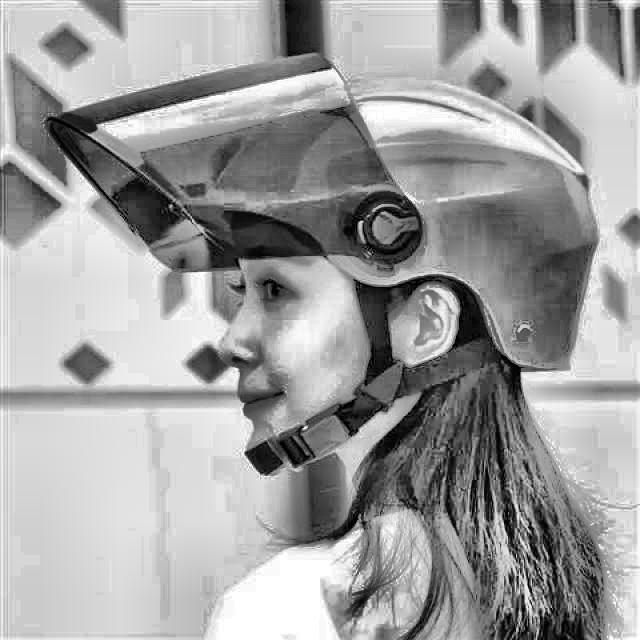Helmet: (34, 46, 608, 484)
